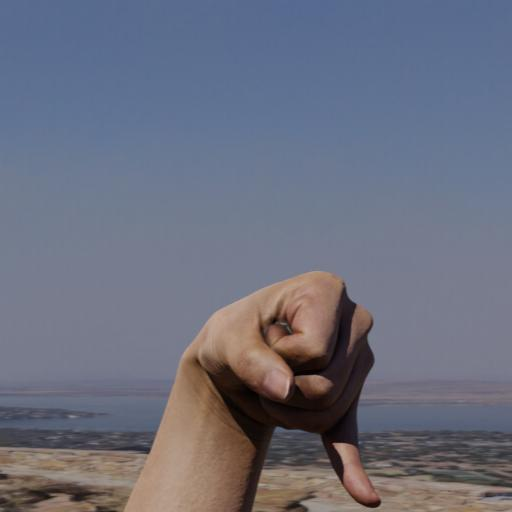J: (176, 267, 382, 512)
